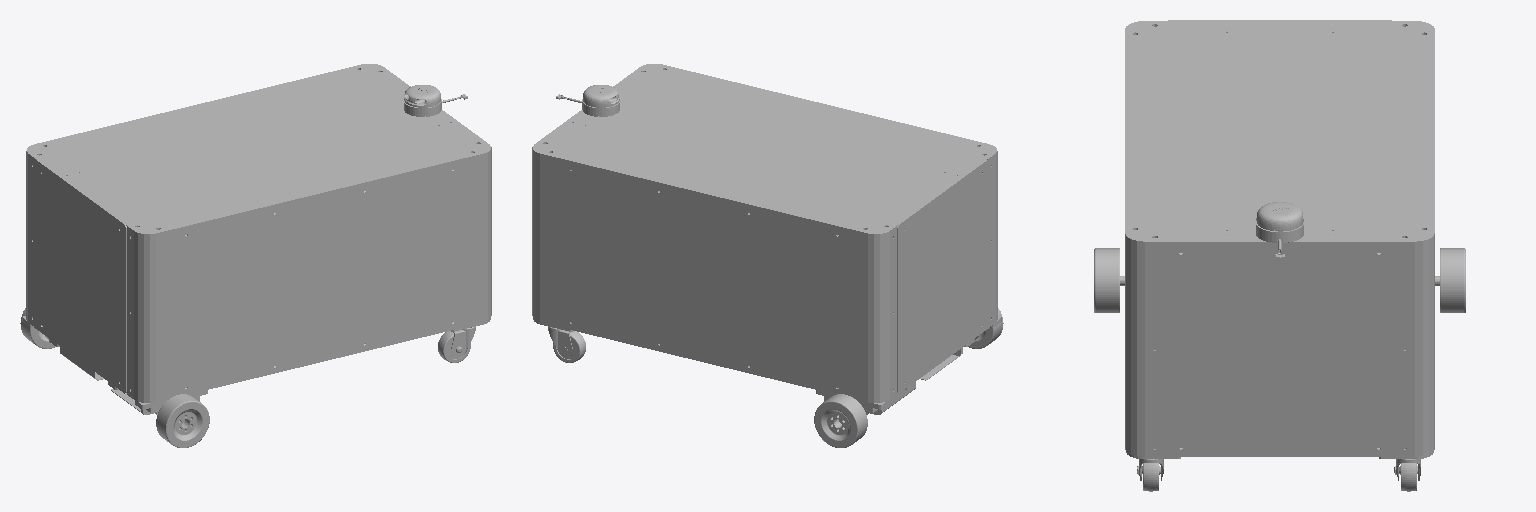
The robot description file, URDF, robot "tao2":
<?xml version="1.0" encoding="utf-8"?>
<!-- This URDF was automatically created by SolidWorks to URDF Exporter! Originally created by [author] ([email redacted]) 
     Commit Version: 1.6.0-1-g15f4949  Build Version: 1.6.7594.29634
     For more information, please see http://wiki.ros.org/sw_urdf_exporter -->
<robot
  name="tao2">
  <link
    name="base_link">
    <inertial>
      <origin
        xyz="0.195764665341416 1.14427481671617E-06 0.181299901878542"
        rpy="0 0 0" />
      <mass
        value="13.9521376615927" />
      <inertia
        ixx="0.131508689175548"
        ixy="1.60524396454868E-06"
        ixz="-1.23031423689432E-06"
        iyy="0.350788375809972"
        iyz="-9.94450449022834E-07"
        izz="0.420389045390095" />
    </inertial>
    <visual>
      <origin
        xyz="0 0 0"
        rpy="0 0 0" />
      <geometry>
        <mesh
          filename="package://tao2/meshes/base_link.STL" />
      </geometry>
      <material
        name="">
        <color
          rgba="0.752941176470588 0.752941176470588 0.752941176470588 1" />
      </material>
    </visual>
    <collision>
      <origin
        xyz="0 0 0"
        rpy="0 0 0" />
      <geometry>
        <mesh
          filename="package://tao2/meshes/base_link.STL" />
      </geometry>
    </collision>
  </link>
  <link
    name="left_wheel">
    <inertial>
      <origin
        xyz="-1.56200211450662E-15 0.0169999999999999 -1.11022302462516E-16"
        rpy="0 0 0" />
      <mass
        value="0.259463292028807" />
      <inertia
        ixx="0.000215299348111058"
        ixy="1.0871251969711E-18"
        ixz="-8.1167097606765E-21"
        iyy="0.000371599078458548"
        iyz="1.22059813221133E-20"
        izz="0.000215299348111058" />
    </inertial>
    <visual>
      <origin
        xyz="0 0 0"
        rpy="0 0 0" />
      <geometry>
        <mesh
          filename="package://tao2/meshes/left_wheel.STL" />
      </geometry>
      <material
        name="">
        <color
          rgba="0.752941176470588 0.752941176470588 0.752941176470588 1" />
      </material>
    </visual>
    <collision>
      <origin
        xyz="0 0 0"
        rpy="0 0 0" />
      <geometry>
        <mesh
          filename="package://tao2/meshes/left_wheel.STL" />
      </geometry>
    </collision>
  </link>
  <joint
    name="left_wheel"
    type="continuous">
    <origin
      xyz="0 0.2485 0"
      rpy="0 0 0" />
    <parent
      link="base_link" />
    <child
      link="left_wheel" />
    <axis
      xyz="0 1 0" />
  </joint>
  <link
    name="right_wheel">
    <inertial>
      <origin
        xyz="3.19322828505111E-17 -0.017000000000002 -4.85722573273506E-17"
        rpy="0 0 0" />
      <mass
        value="0.259463292028807" />
      <inertia
        ixx="0.000215299348111058"
        ixy="7.62268896313193E-21"
        ixz="2.32394991366551E-21"
        iyy="0.000371599078458548"
        iyz="-1.48781663434215E-20"
        izz="0.000215299348111058" />
    </inertial>
    <visual>
      <origin
        xyz="0 0 0"
        rpy="0 0 0" />
      <geometry>
        <mesh
          filename="package://tao2/meshes/right_wheel.STL" />
      </geometry>
      <material
        name="">
        <color
          rgba="0.752941176470588 0.752941176470588 0.752941176470588 1" />
      </material>
    </visual>
    <collision>
      <origin
        xyz="0 0 0"
        rpy="0 0 0" />
      <geometry>
        <mesh
          filename="package://tao2/meshes/right_wheel.STL" />
      </geometry>
    </collision>
  </link>
  <joint
    name="right_wheel"
    type="continuous">
    <origin
      xyz="0 -0.2485 0"
      rpy="0 0 0" />
    <parent
      link="base_link" />
    <child
      link="right_wheel" />
    <axis
      xyz="0 1 0" />
  </joint>
  <link
    name="laser">
    <inertial>
      <origin
        xyz="-0.00110946393439415 -0.00117495870639947 0.0203503986680949"
        rpy="0 0 0" />
      <mass
        value="0.0435445894379235" />
      <inertia
        ixx="1.64364930505945E-05"
        ixy="7.05967993614006E-07"
        ixz="1.08612793553912E-07"
        iyy="1.44289087320666E-05"
        iyz="5.40971671313774E-08"
        izz="2.93886055160877E-05" />
    </inertial>
    <visual>
      <origin
        xyz="0 0 0"
        rpy="0 0 0" />
      <geometry>
        <mesh
          filename="package://tao2/meshes/laser.STL" />
      </geometry>
      <material
        name="">
        <color
          rgba="0.752941176470588 0.752941176470588 0.752941176470588 1" />
      </material>
    </visual>
    <collision>
      <origin
        xyz="0 0 0"
        rpy="0 0 0" />
      <geometry>
        <mesh
          filename="package://tao2/meshes/laser.STL" />
      </geometry>
    </collision>
  </link>
  <joint
    name="laser"
    type="fixed">
    <origin
      xyz="0.695 0 0.4052"
      rpy="0 0 0" />
    <parent
      link="base_link" />
    <child
      link="laser" />
    <axis
      xyz="0 0 0" />
  </joint>
</robot>

--- What the picture shows (computed from the rendered views, not written in the file) ---
The picture shows the robot from 3 angles, left to right: view 1: azimuth 30°, elevation 25°; view 2: azimuth 150°, elevation 25°; view 3: azimuth 270°, elevation 25°; orthographic projection.
Robot: tao2 — 4 links, 3 joints (2 continuous, 1 fixed); root link base_link; default pose: every joint at zero.
Links seen in each view (by area): view 1: base_link, right_wheel, laser; view 2: base_link, left_wheel, laser; view 3: base_link, laser, left_wheel, right_wheel.
Boxes of the visible links, x1=… form: base_link: x1=22, y1=64, x2=491, y2=423; right_wheel: x1=156, y1=394, x2=209, y2=447; laser: x1=404, y1=85, x2=467, y2=116; base_link: x1=532, y1=64, x2=1001, y2=423; left_wheel: x1=814, y1=394, x2=867, y2=447; laser: x1=556, y1=85, x2=619, y2=116; base_link: x1=1120, y1=20, x2=1439, y2=491; laser: x1=1256, y1=202, x2=1303, y2=258; left_wheel: x1=1440, y1=248, x2=1465, y2=312; right_wheel: x1=1094, y1=248, x2=1119, y2=312.
Size in the robot's own frame: 0.8717 by 0.571 by 0.496 metres.
4 mesh visuals loaded from 4 distinct referenced files (4 binary STL).